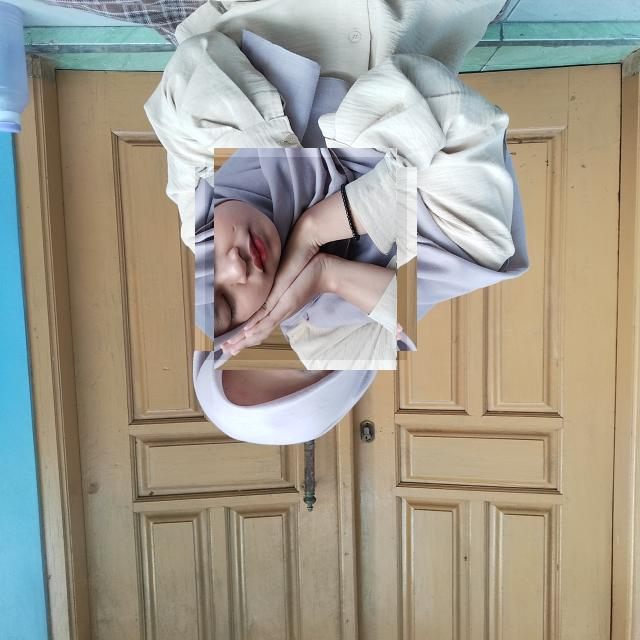tidur: (205, 157, 407, 360)
